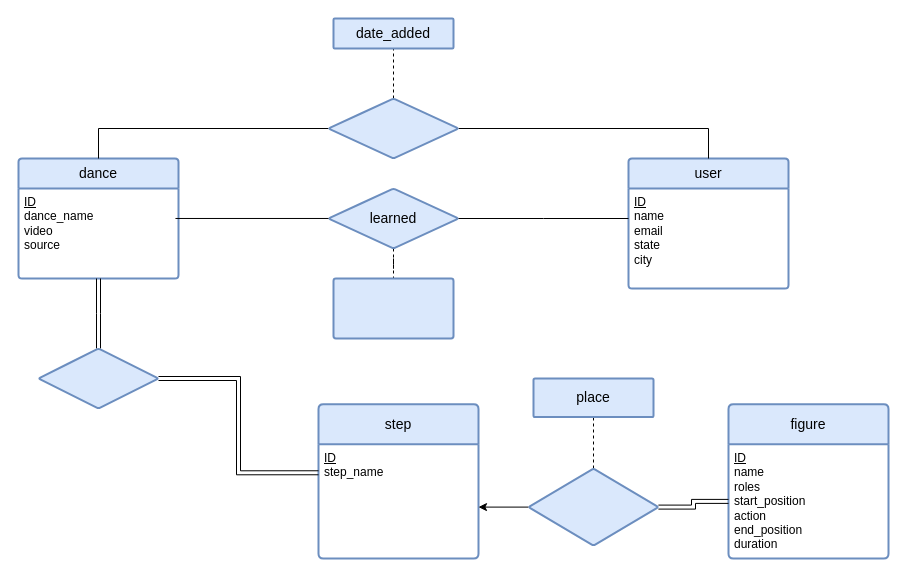
Some shapes in this 906 by 576 pixel diagram are drawn without their labels. The shapes that lost their labels are listed below. From the top down, each one's box as (x1, y1, x2, y2) in pixels, then its label:
(327, 97, 459, 159): learning
(332, 277, 454, 339): date_added rating
(37, 347, 159, 409): dance_step
(527, 467, 659, 546): figure_step
